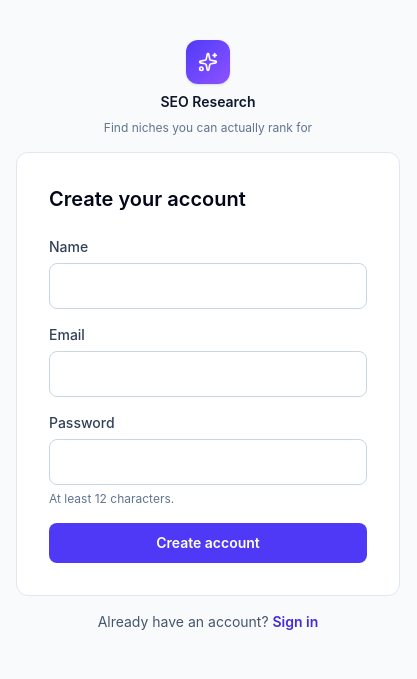
Scenario: authentication form › explains a 409 registration failure without signing in
Type "Person Example" into the field labelled "Name" at point(208, 286), box [49,263,367,309]
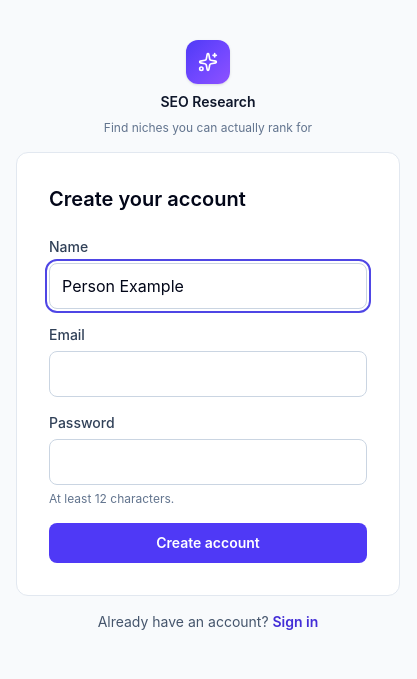
Type "person@example.com" into the field labelled "Email" at point(208, 374), box [49,351,367,397]
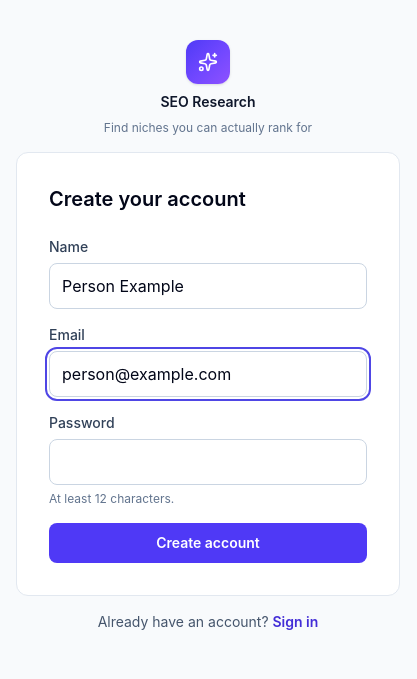
Type "correct horse battery staple" into the password field labelled "Password" at point(208, 462), box [49,439,367,485]
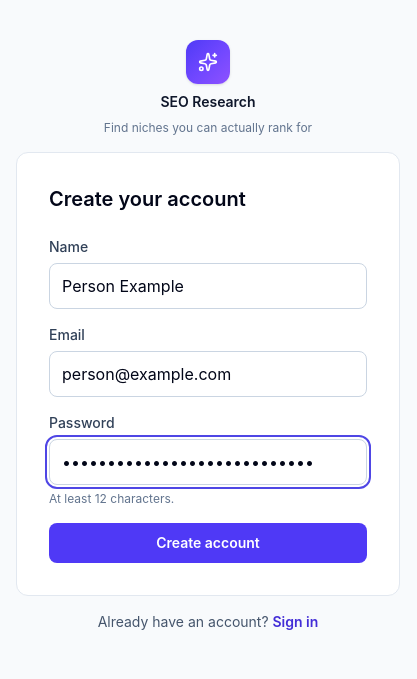
Click the button "Create account" at point(208, 543), box [49,523,367,563]
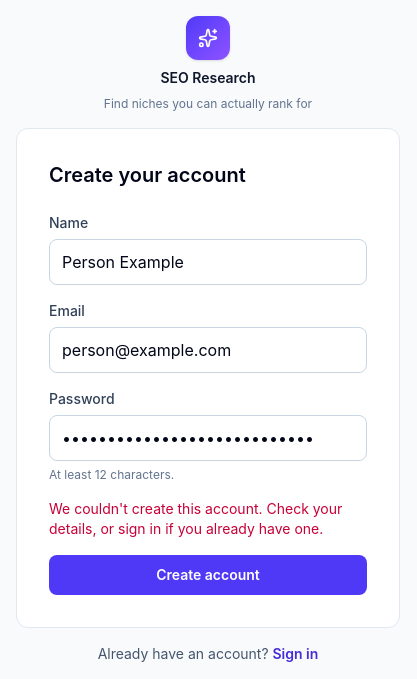
Expected: the message shows "We couldn't create this account. Check your details, or sign in if you already have one.", [49,500,342,537]
